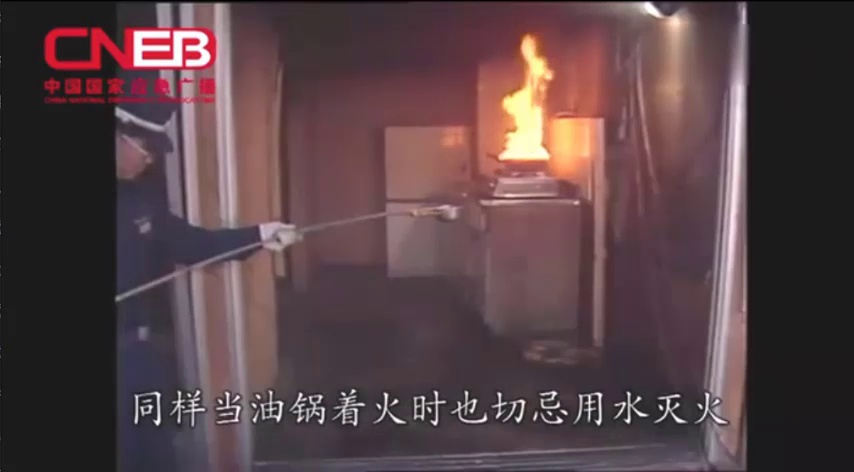fire: (491, 28, 562, 167)
